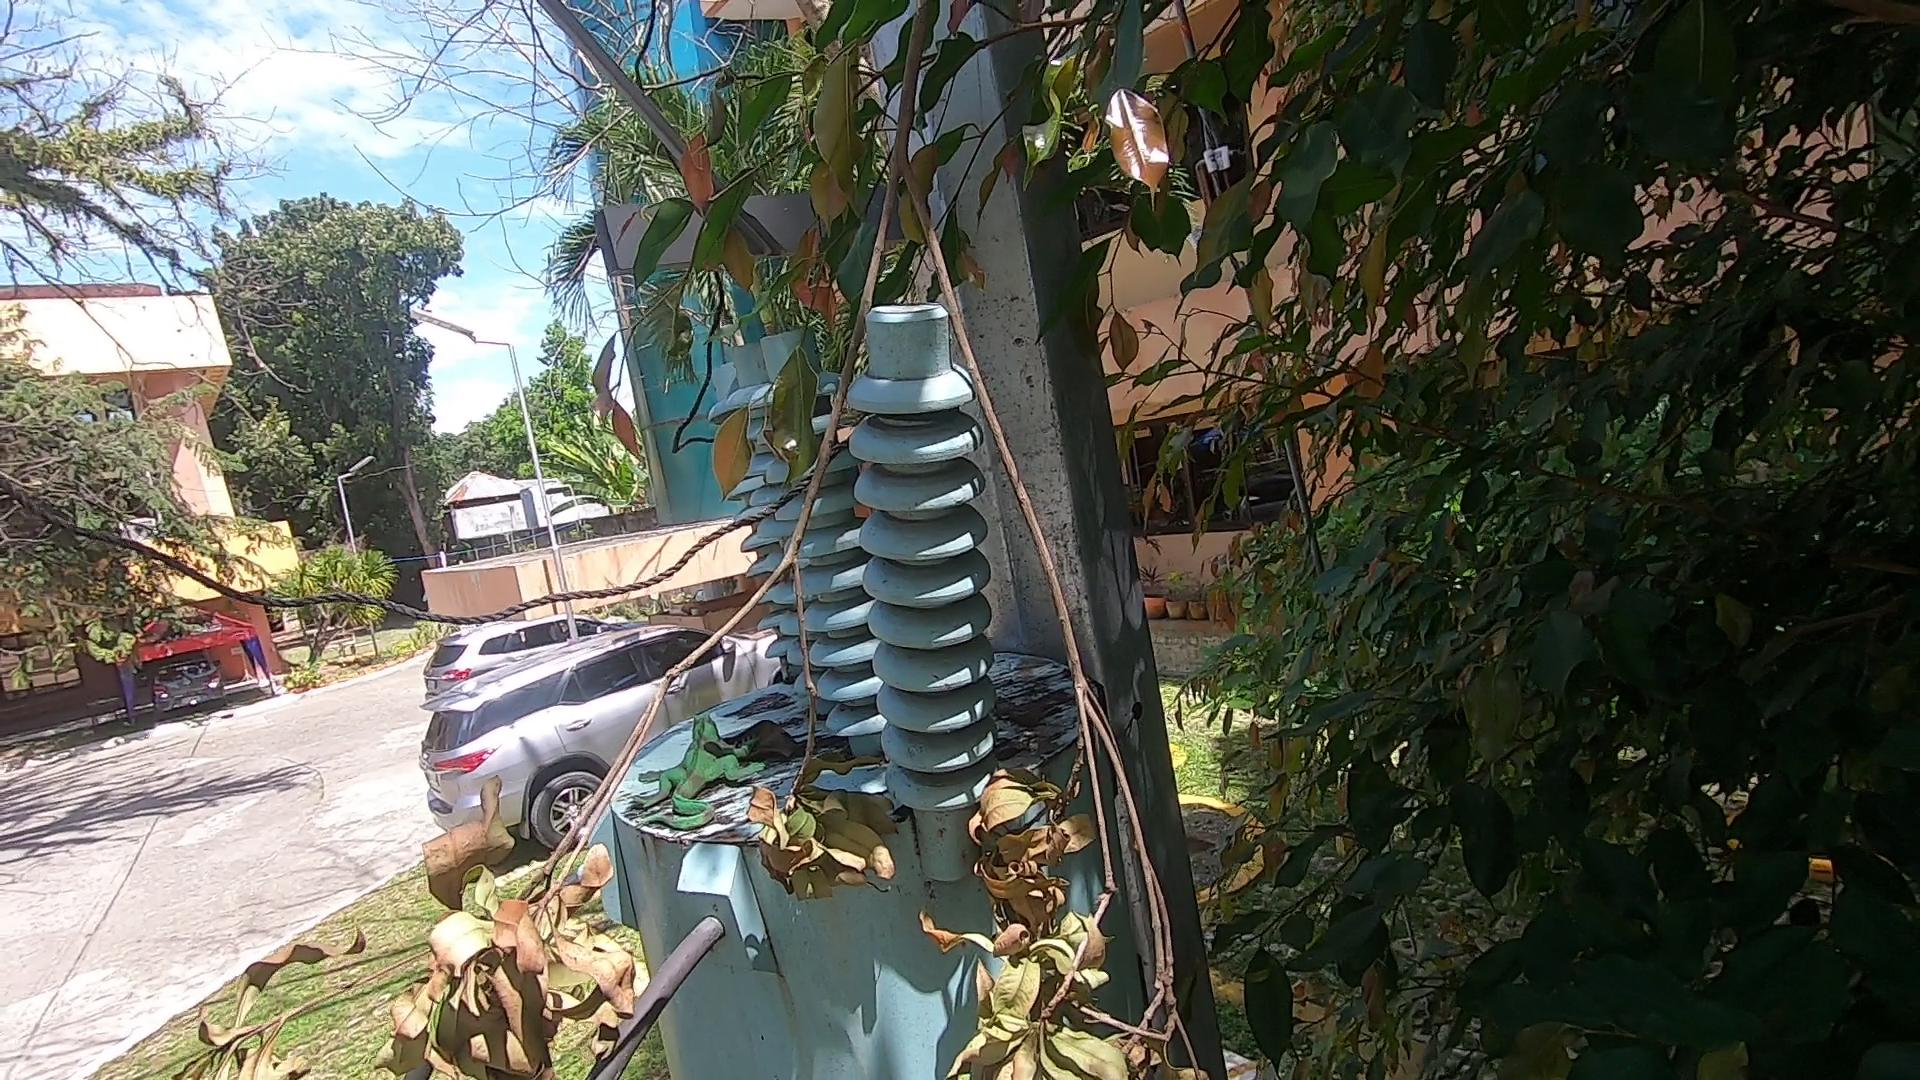branch with leaves: (125, 1, 1226, 1065)
leaf: (738, 711, 800, 774)
